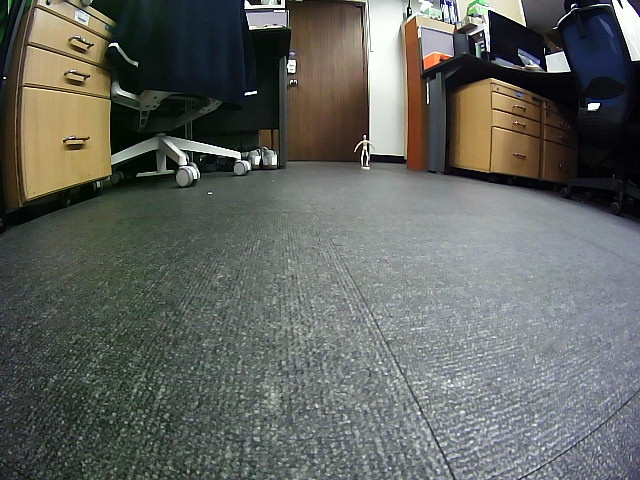person: (353, 135, 375, 166)
